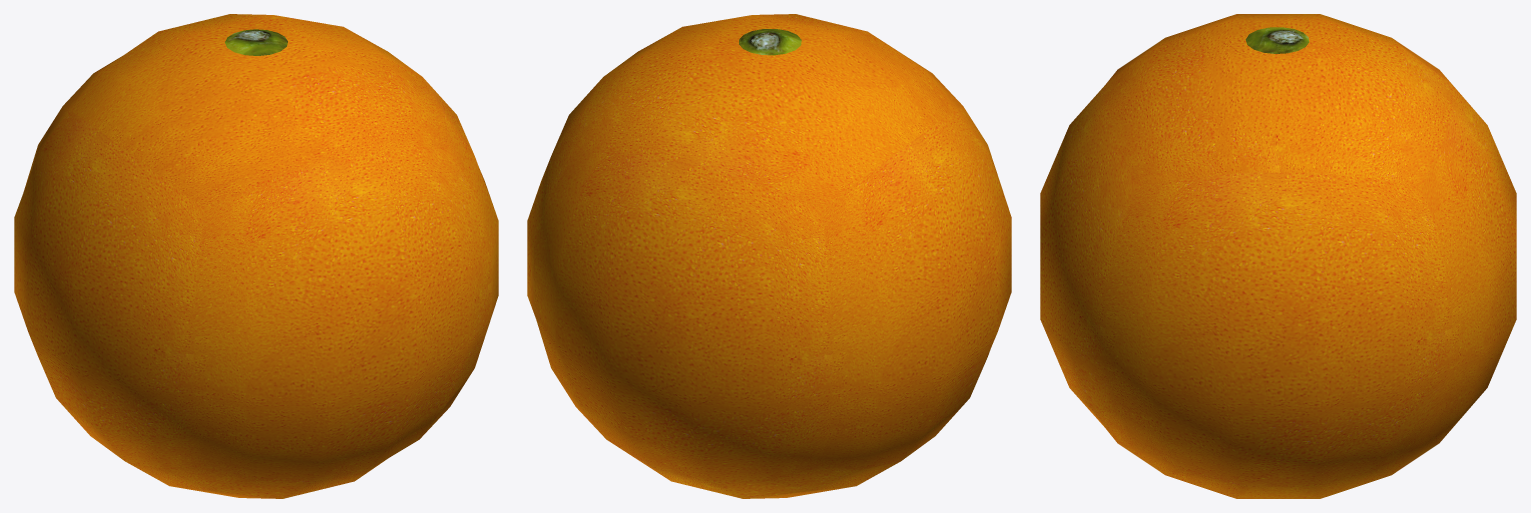
Rendered from Orange.fbx.
3 views of the same model, side by side, from view 1: azimuth 30°, elevation 25°; view 2: azimuth 150°, elevation 25°; view 3: azimuth 270°, elevation 25° (orthographic).
Parts seen in each view (by area): view 1: Orange; view 2: Orange; view 3: Orange.
Part boxes in pixels (<box>): Orange: <box>14,14,498,498</box>; Orange: <box>527,14,1011,498</box>; Orange: <box>1040,14,1516,498</box>.
Bounding box in the file's own units: 76.98 × 77.91 × 76.98.
Materials: 1 (1 with a texture image).
